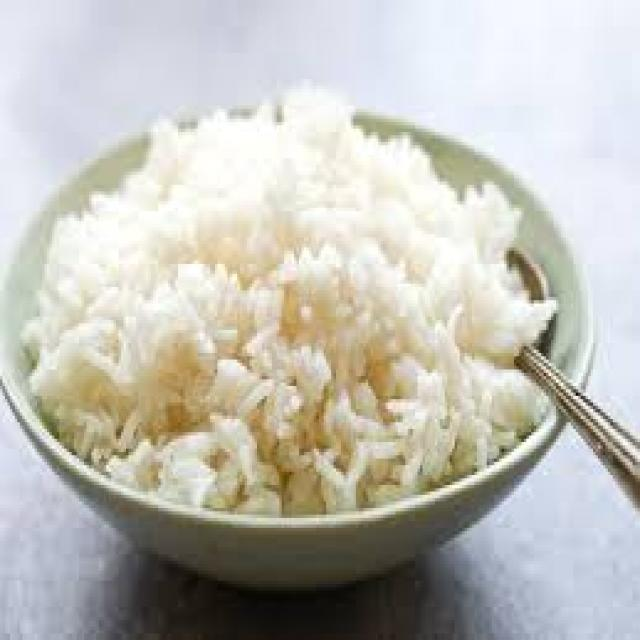White Rice: (7, 100, 640, 578)
